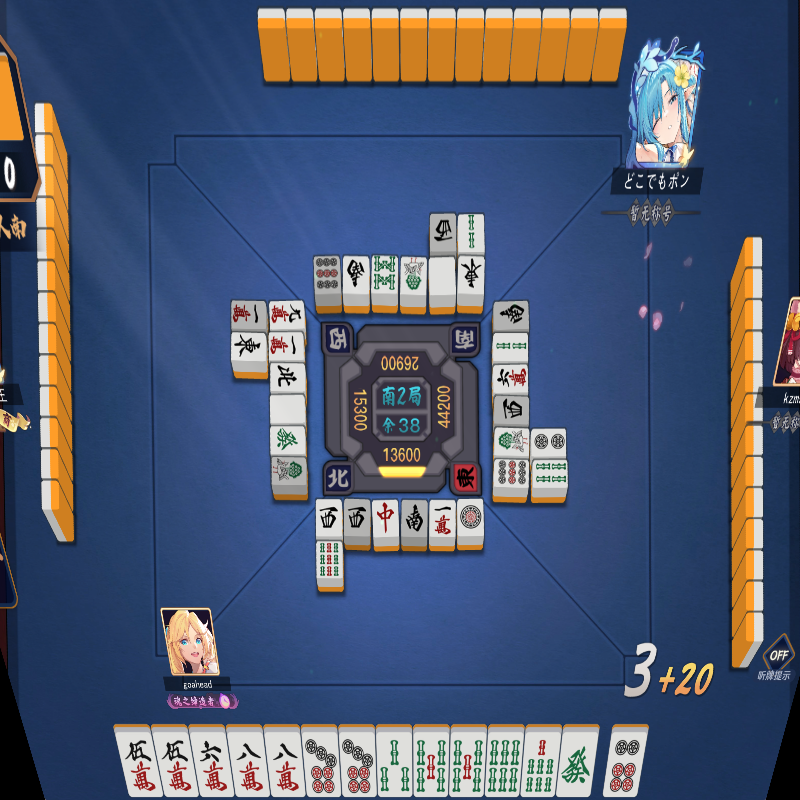1m: (229, 299, 268, 332), (428, 497, 455, 543), (267, 331, 307, 361)
1p: (457, 498, 485, 542)
1s: (398, 255, 428, 303), (270, 455, 308, 489), (491, 427, 530, 459)
1z: (455, 256, 486, 304), (229, 332, 268, 365)
2p: (530, 428, 568, 459)
2s: (456, 212, 485, 255), (492, 332, 529, 363)
2z: (341, 255, 370, 301), (400, 499, 429, 543), (493, 300, 530, 332)
3s: (375, 730, 414, 797)
3z: (343, 497, 372, 543), (314, 497, 343, 541), (492, 395, 530, 428), (428, 212, 457, 255)
4s: (530, 459, 569, 490)
4z: (268, 362, 308, 393)
5m: (117, 729, 162, 797), (157, 730, 199, 795)
5s: (450, 727, 486, 797), (412, 730, 449, 796)
5z: (428, 255, 457, 305), (268, 394, 309, 425)
6m: (193, 730, 233, 797), (492, 363, 531, 396)
6p: (602, 728, 648, 797)
6s: (486, 727, 523, 796)
6z: (558, 727, 597, 796), (268, 424, 308, 456)
7p: (302, 730, 341, 797), (338, 730, 377, 797)
7s: (521, 726, 560, 796)
7z: (372, 498, 400, 541)
8m: (230, 729, 270, 798), (266, 729, 306, 797)
8s: (370, 254, 400, 302)
9m: (267, 298, 307, 333), (490, 458, 531, 490)
9p: (311, 253, 343, 302)
9s: (314, 541, 344, 583)
